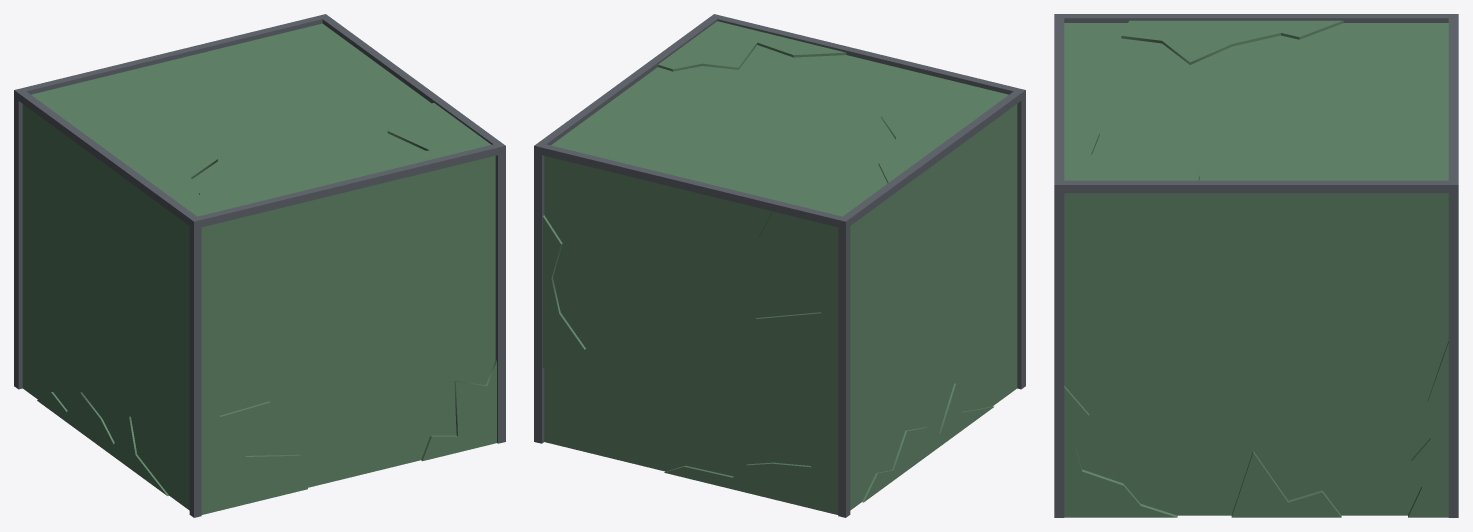
Rendered from Prop_DisplayCase_02.glb.
The picture shows the model from 3 angles, left to right: view 1: azimuth 30°, elevation 25°; view 2: azimuth 150°, elevation 25°; view 3: azimuth 270°, elevation 25°; orthographic projection. The views are drawn at different scales.
Visible parts, largest first — view 1: SM_Prop_DisplayCase_Glass_02, SM_Prop_DisplayCase_Glass_02_Broken, SM_Prop_DisplayCase_02; view 2: SM_Prop_DisplayCase_Glass_02, SM_Prop_DisplayCase_Glass_02_Broken, SM_Prop_DisplayCase_02; view 3: SM_Prop_DisplayCase_Glass_02, SM_Prop_DisplayCase_Glass_02_Broken, SM_Prop_DisplayCase_02.
Part boxes in pixels (x1,y1,x2,y2): SM_Prop_DisplayCase_Glass_02: (22,23,495,510); SM_Prop_DisplayCase_Glass_02_Broken: (37,103,496,514); SM_Prop_DisplayCase_02: (14,14,505,517); SM_Prop_DisplayCase_Glass_02: (544,45,1017,510); SM_Prop_DisplayCase_Glass_02_Broken: (542,21,994,514); SM_Prop_DisplayCase_02: (534,14,1025,517); SM_Prop_DisplayCase_Glass_02: (1064,23,1448,515); SM_Prop_DisplayCase_Glass_02_Broken: (1064,20,1448,517); SM_Prop_DisplayCase_02: (1054,14,1458,517).
Size of the model in its own units: 0.5614 by 0.5098 by 0.5614.
1 material, 1 textured.
